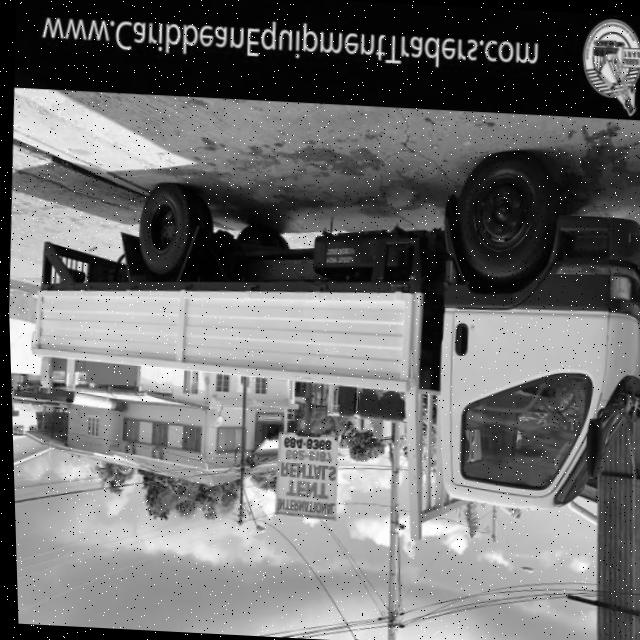truck: (407, 183, 640, 529)
